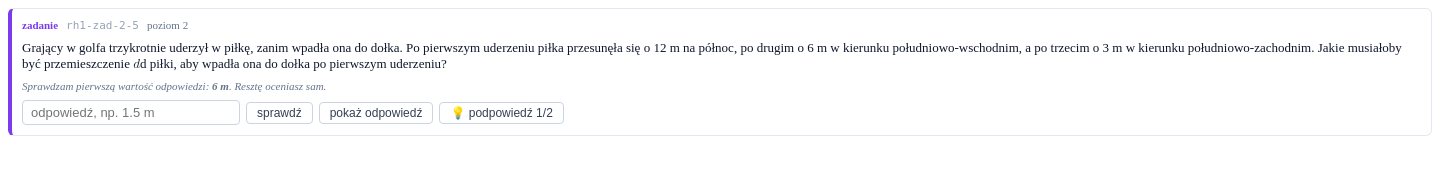
it: zadanie 2-5 z Resnicka › sprawdza pierwszą wartość odpowiedzi i mówi o tym
Type "6,1 m" into the field with placeholder "odpowiedź, np. 1.5 m" at (131, 112), box left=22, top=100, right=240, bottom=125
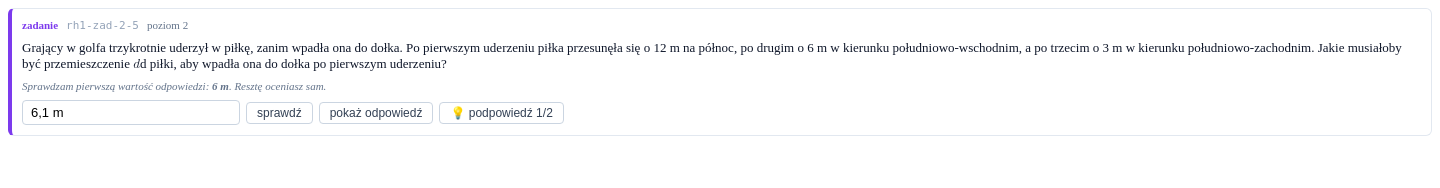
Click the button "sprawdź" at (279, 112), box left=246, top=102, right=313, bottom=124
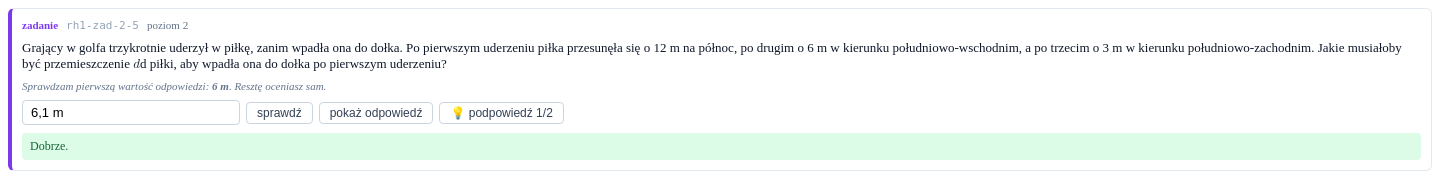
Expected: the text "Dobrze." is shown, left=22, top=133, right=1421, bottom=160
